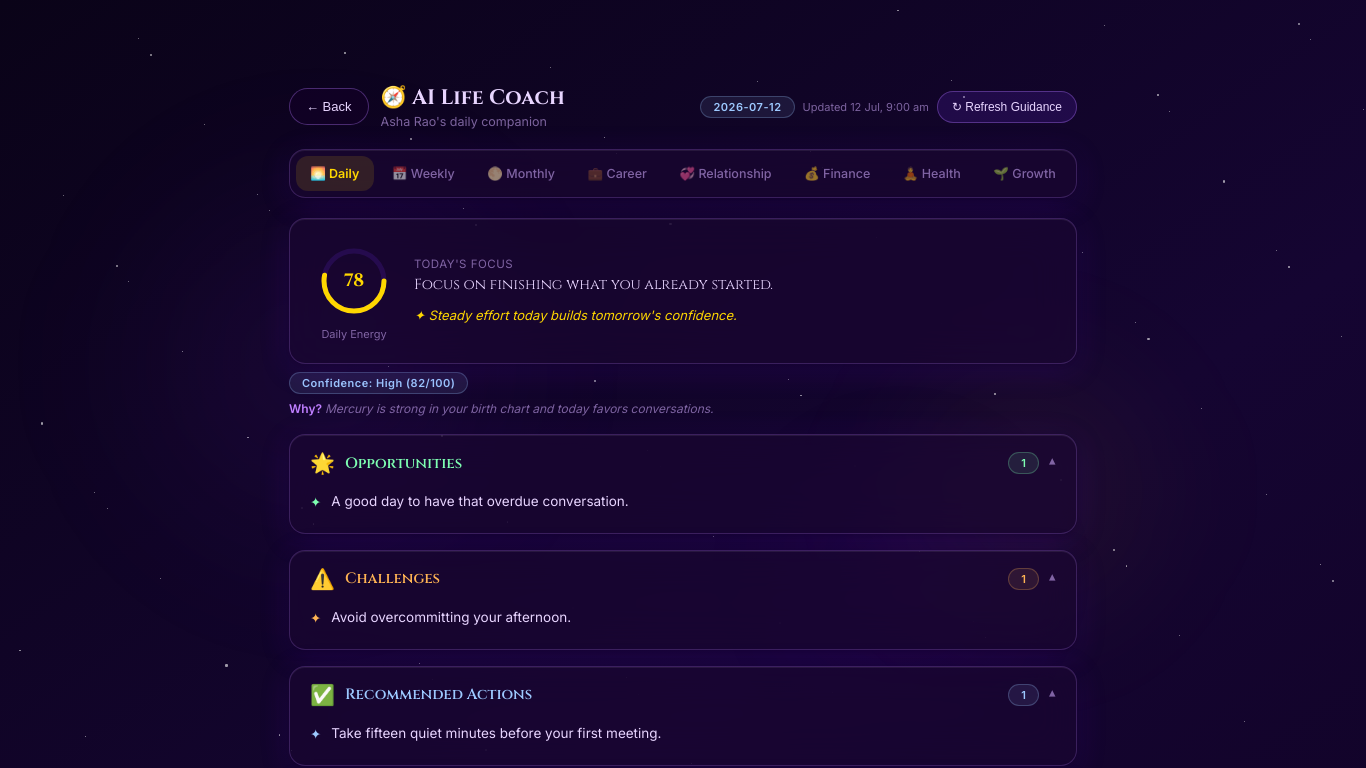
Scenario: AILifeCoachPage › switches to the Career section and shows career guidance fields
The image size is (1366, 768).
Expected: the text "Focus on finishing what you already started." is shown, x1=414 y1=275 x2=773 y2=294
Click the button "💼 Career": (617, 174) x1=573 y1=156 x2=661 y2=191
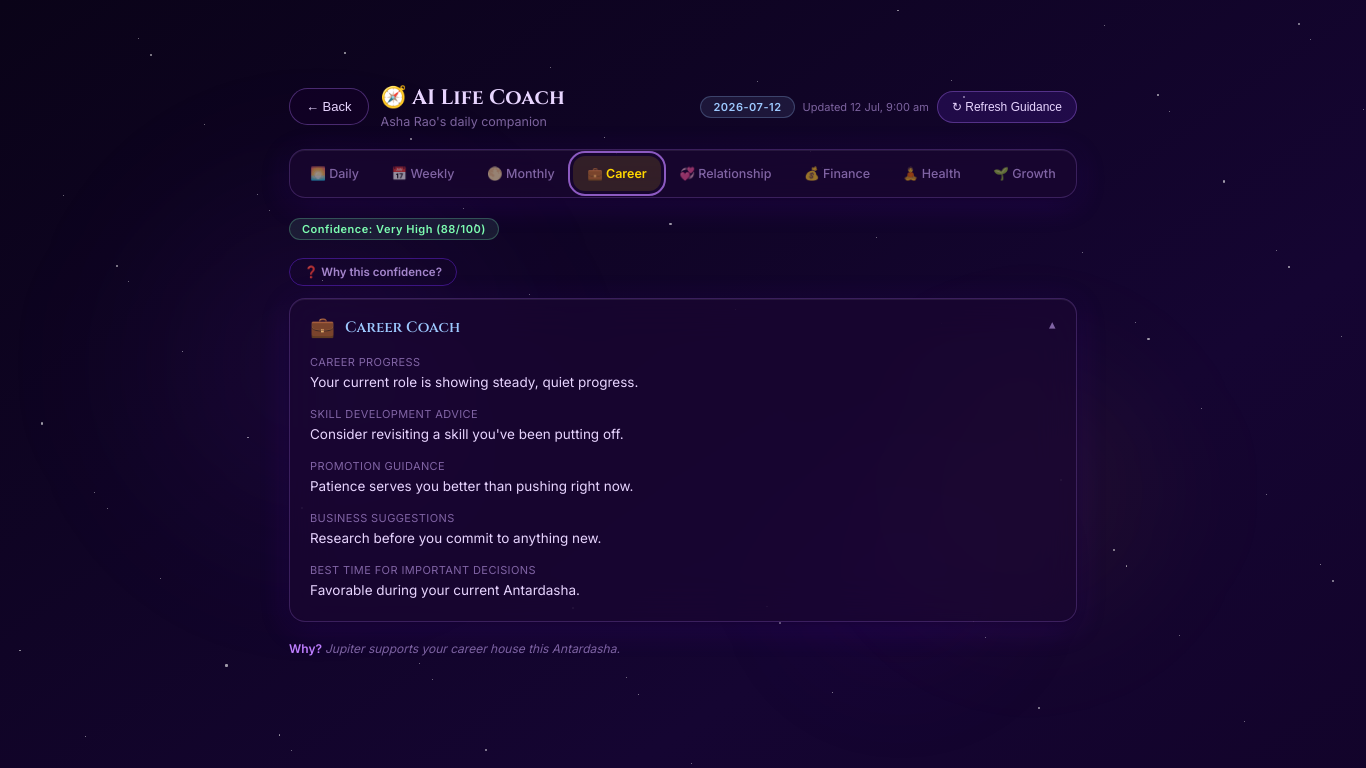
Expected: the text "Your current role is showing steady, quiet progress." is shown, x1=310 y1=374 x2=638 y2=390
